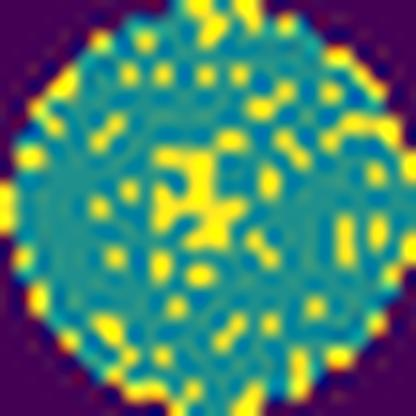Center: (147, 136, 247, 262)
